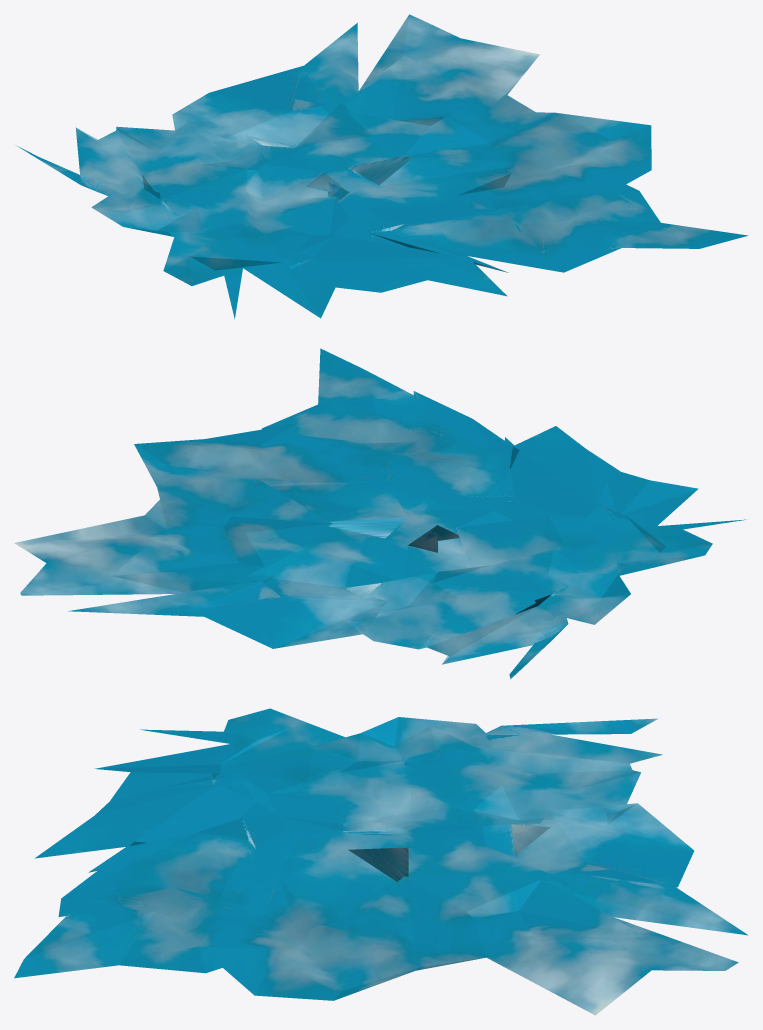
The model's file is soapLeak1.fbx.
The picture shows the model from 3 angles, top to bottom: view 1: azimuth 30°, elevation 25°; view 2: azimuth 150°, elevation 25°; view 3: azimuth 270°, elevation 25°; orthographic projection. The views are drawn at different scales.
Parts seen in each view (by area): view 1: SoapLeak1; view 2: SoapLeak1; view 3: SoapLeak1.
Part boxes in pixels (x1,y1,x2,y2): SoapLeak1: (16, 14, 747, 319); SoapLeak1: (14, 348, 745, 679); SoapLeak1: (14, 708, 747, 1015).
Size of the model in its own units: 43.32 by 0.9771 by 45.89.
Materials: 1 (1 with a texture image).
